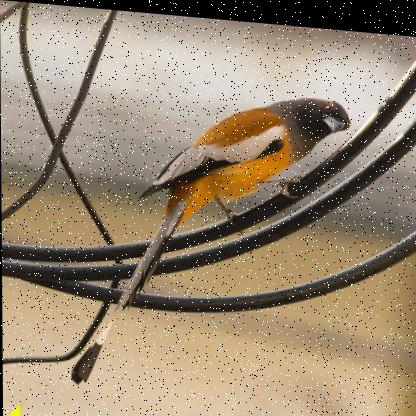Burung: (68, 75, 352, 401)
